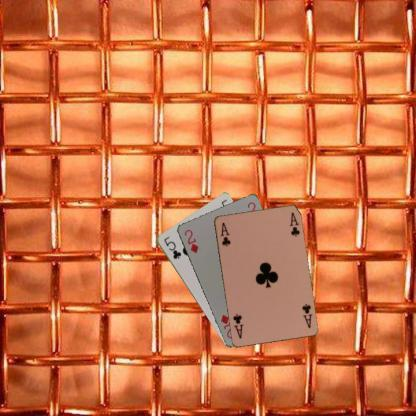2d: (182, 227, 199, 254)
5c: (161, 234, 183, 261)
Ac: (299, 301, 313, 329), (218, 220, 232, 247)
